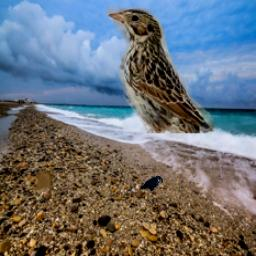Crow: (138, 176, 163, 196)
Sparrow: (107, 8, 214, 134)
